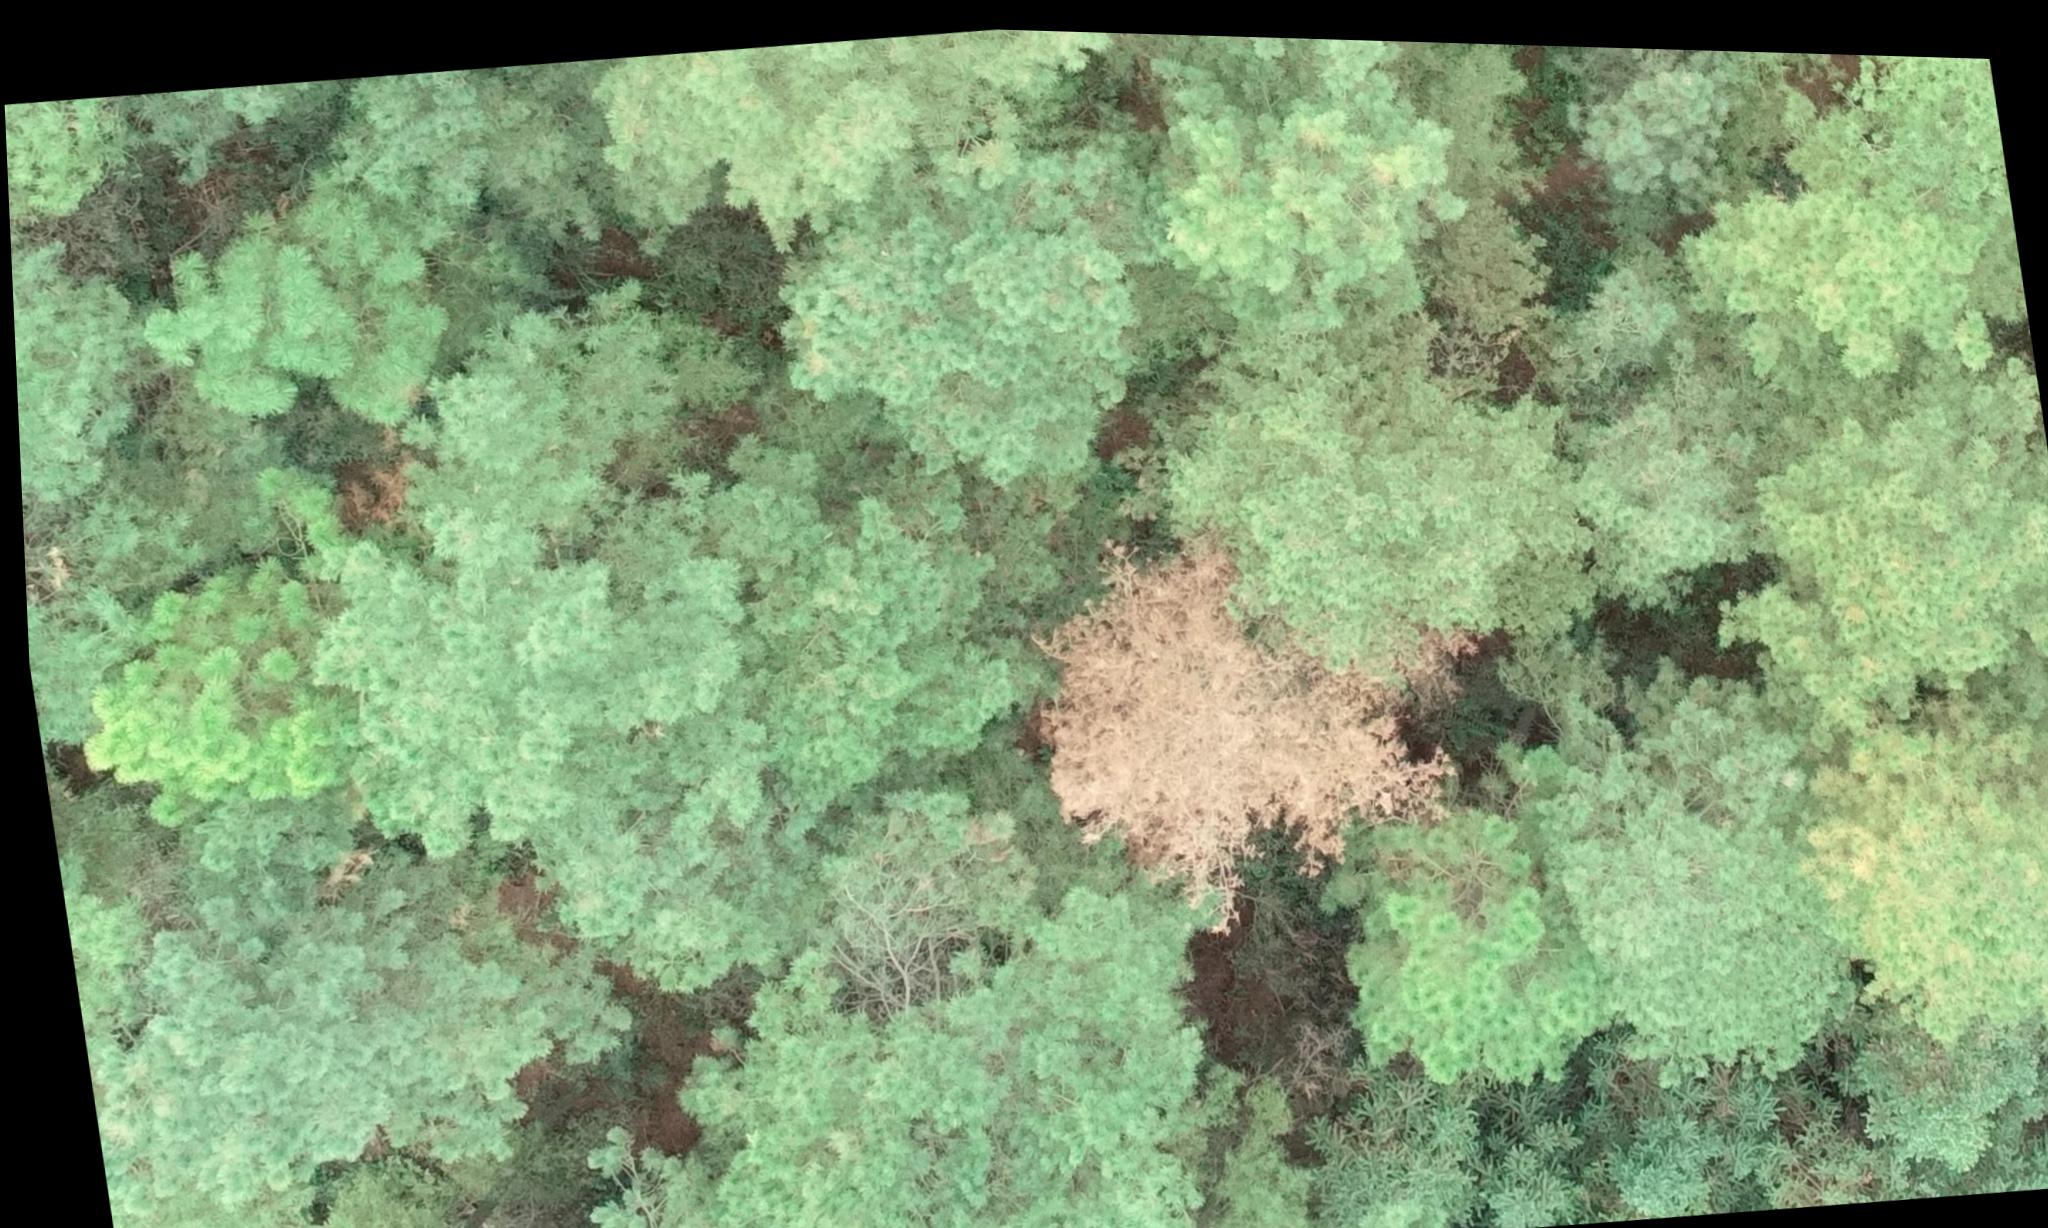heavy: (982, 494, 1494, 905)
